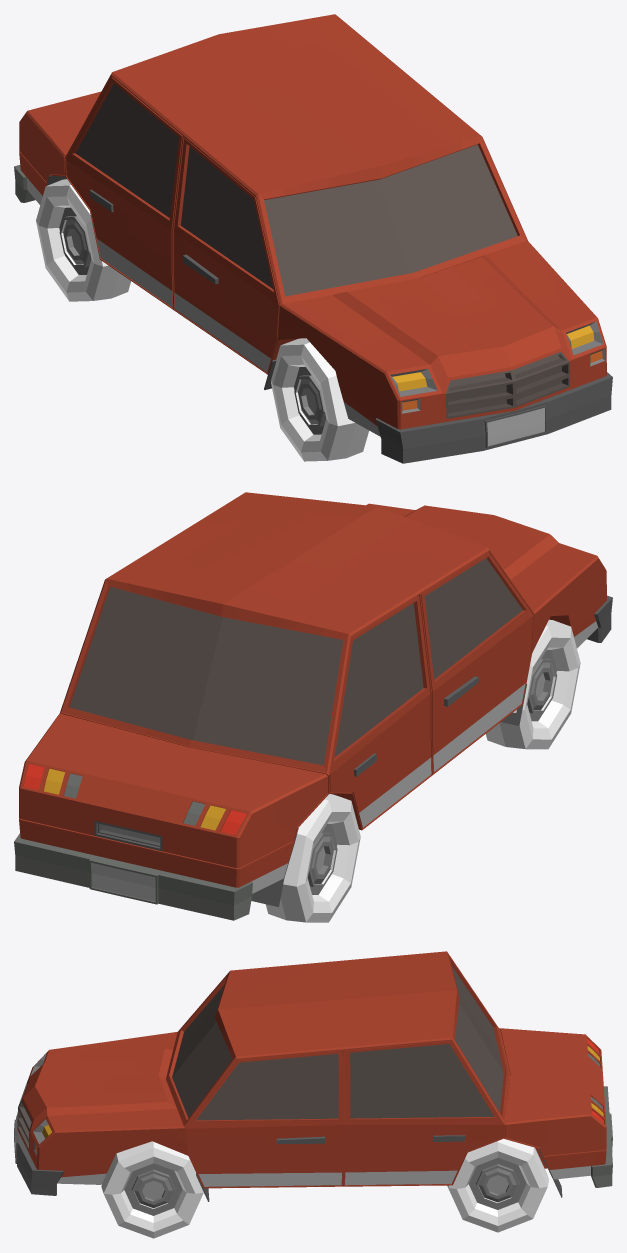
Rendered from Red Car.fbx.
3 renders of one model, top to bottom at view 1: azimuth 30°, elevation 25°; view 2: azimuth 150°, elevation 25°; view 3: azimuth 270°, elevation 25°, orthographic. The views are drawn at different scales.
Parts seen in each view (by area): view 1: Red_Car; view 2: Red_Car; view 3: Red_Car.
Part boxes in pixels (x1,y1,x2,y2): Red_Car: [14, 14, 612, 463]; Red_Car: [14, 492, 612, 922]; Red_Car: [14, 951, 612, 1238].
Bounding box in the file's own units: 137 × 127 × 344.
